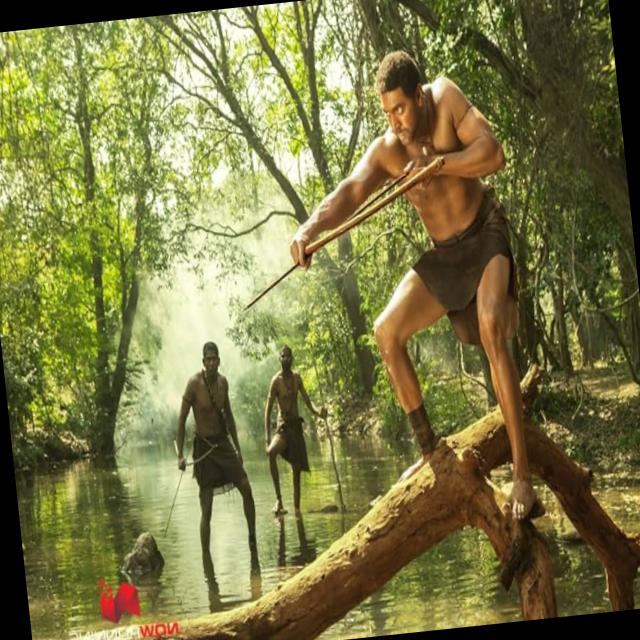poacher: (284, 0, 572, 583), (140, 289, 272, 589), (228, 306, 332, 552)
weapon: (188, 211, 453, 321), (156, 415, 219, 529)
